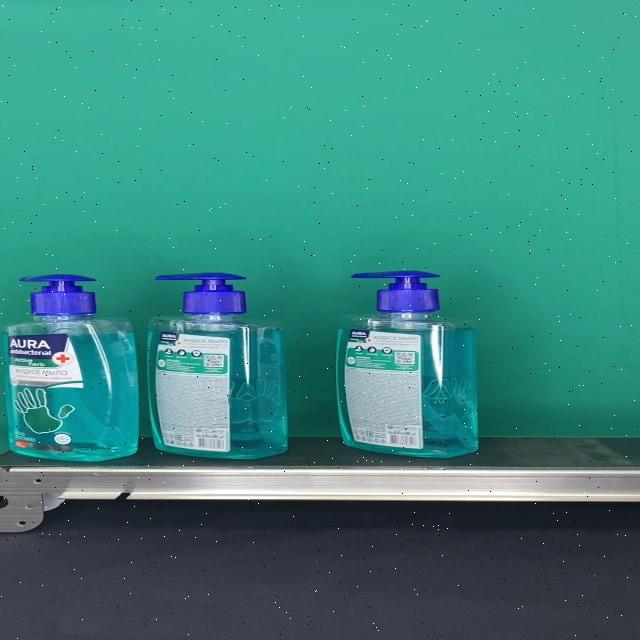Bottle: (336, 269, 478, 459), (146, 273, 288, 460), (4, 274, 138, 462)
Cap: (154, 273, 245, 316), (349, 270, 440, 312), (19, 273, 99, 314)
